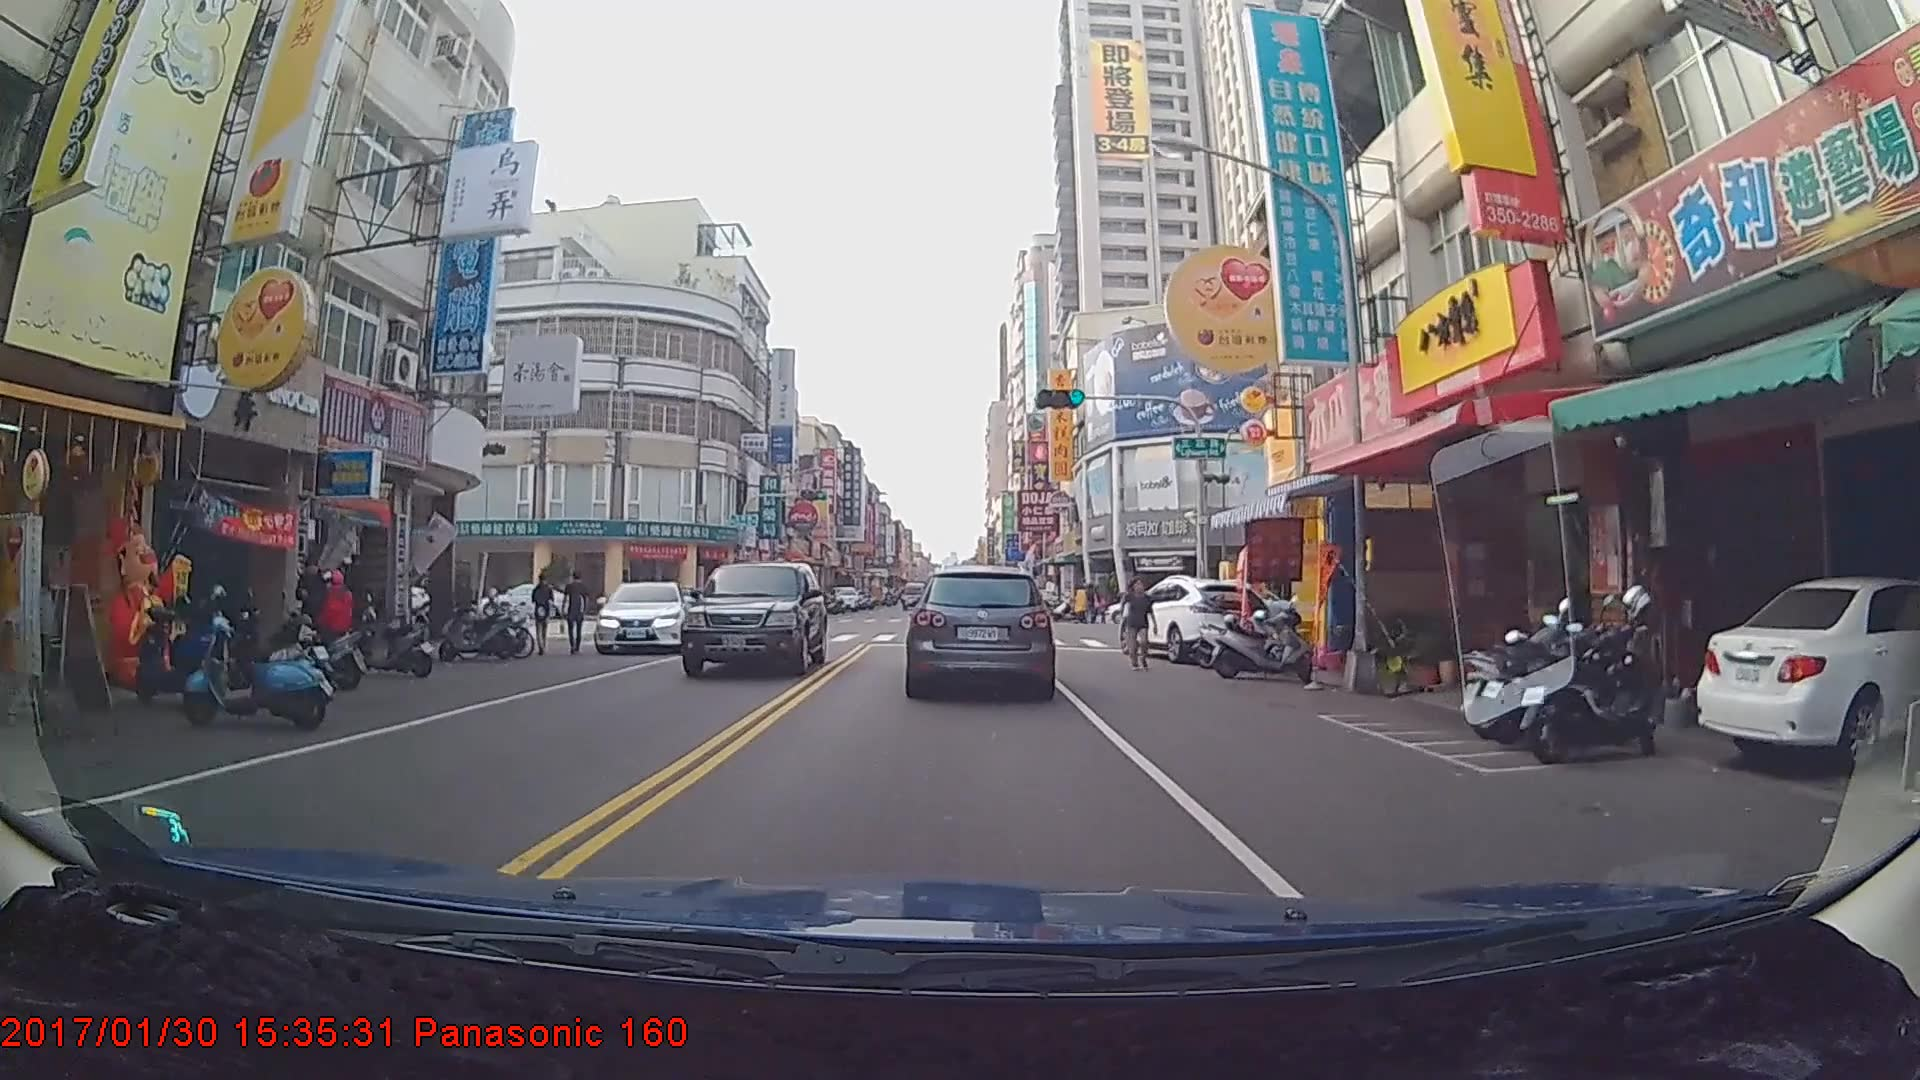pedestrian: (292, 551, 341, 666), (1119, 578, 1156, 667), (561, 569, 593, 651), (530, 573, 557, 658)
rider: (268, 567, 374, 696)
vehicle: (1690, 573, 1913, 775), (906, 566, 1053, 697), (680, 558, 829, 678), (1114, 573, 1273, 662), (592, 578, 692, 654), (902, 577, 929, 607)
